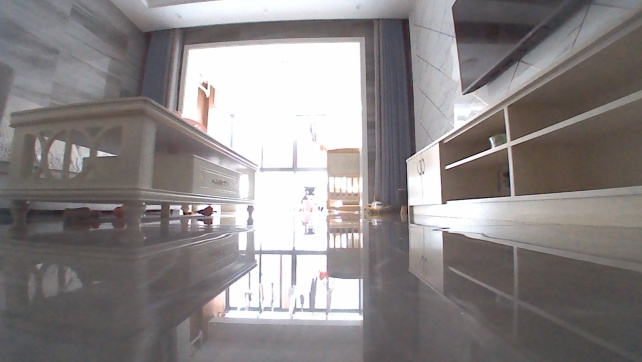TV_stand: (403, 0, 641, 232)
tea_table: (0, 94, 260, 230)
